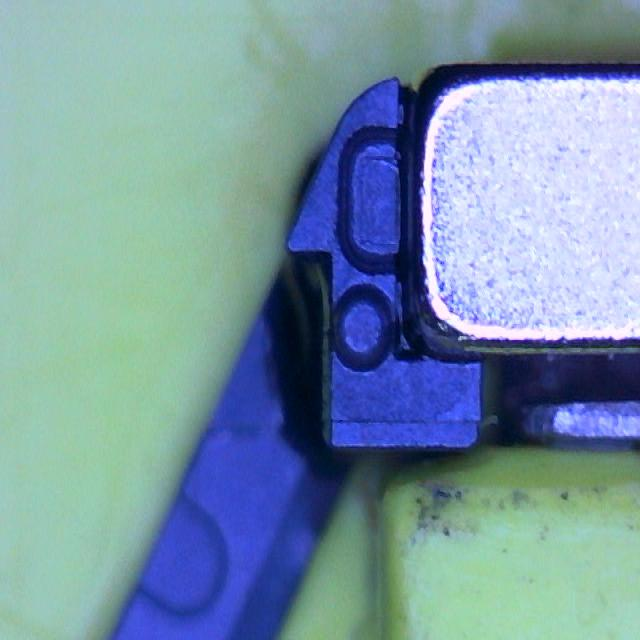lacking: (336, 124, 406, 278)
